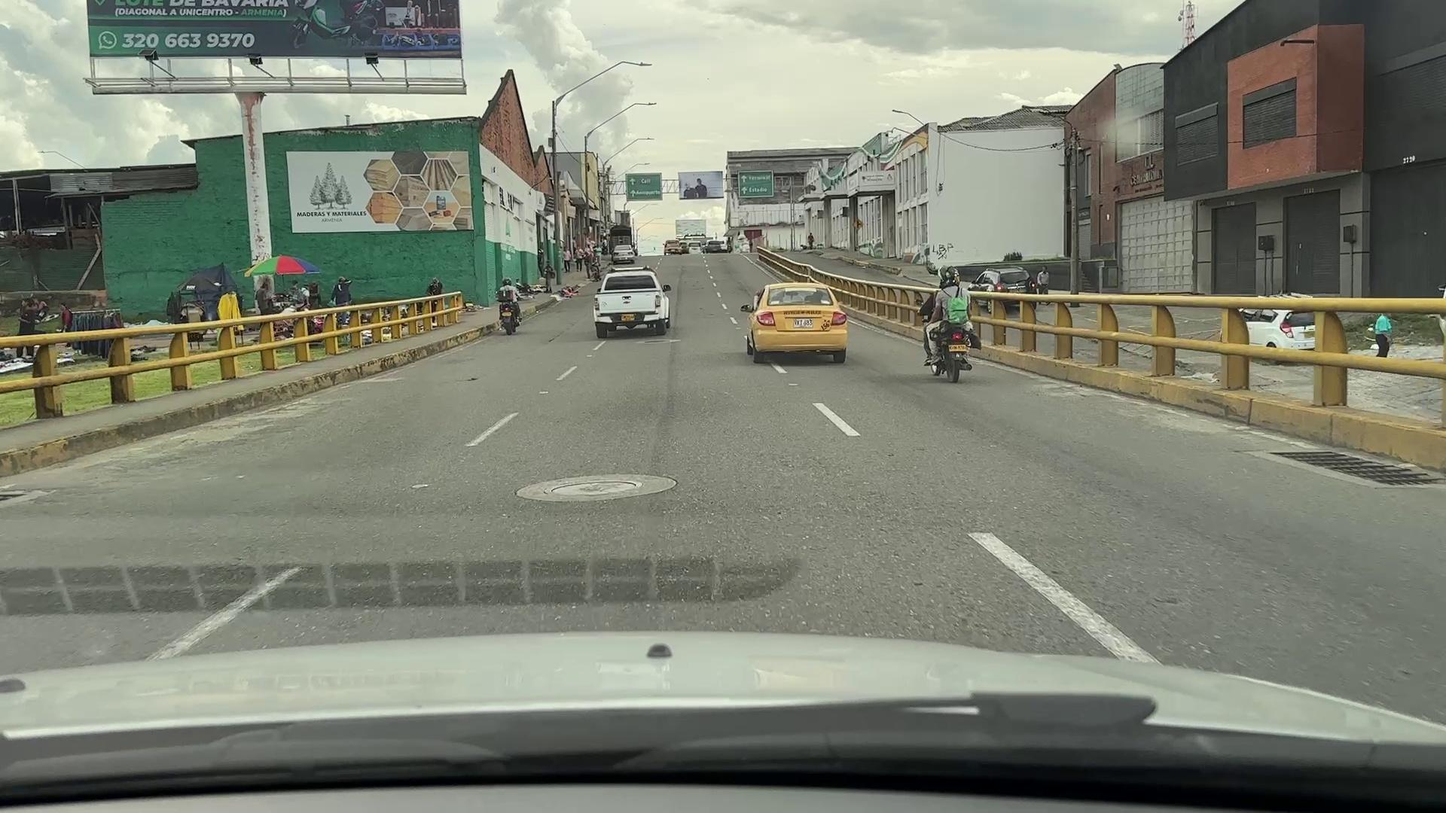registro: (552, 480, 642, 495), (644, 340, 668, 343)
rejilla: (1269, 451, 1445, 485), (0, 494, 27, 502)
